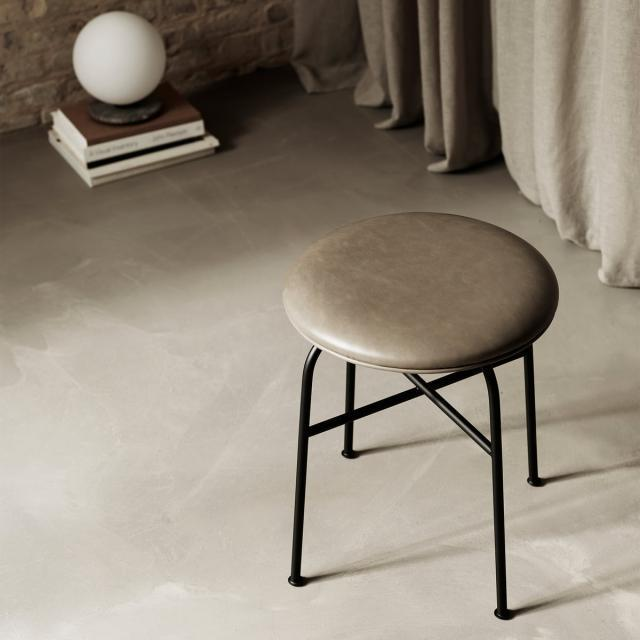chair: (280, 206, 564, 624)
